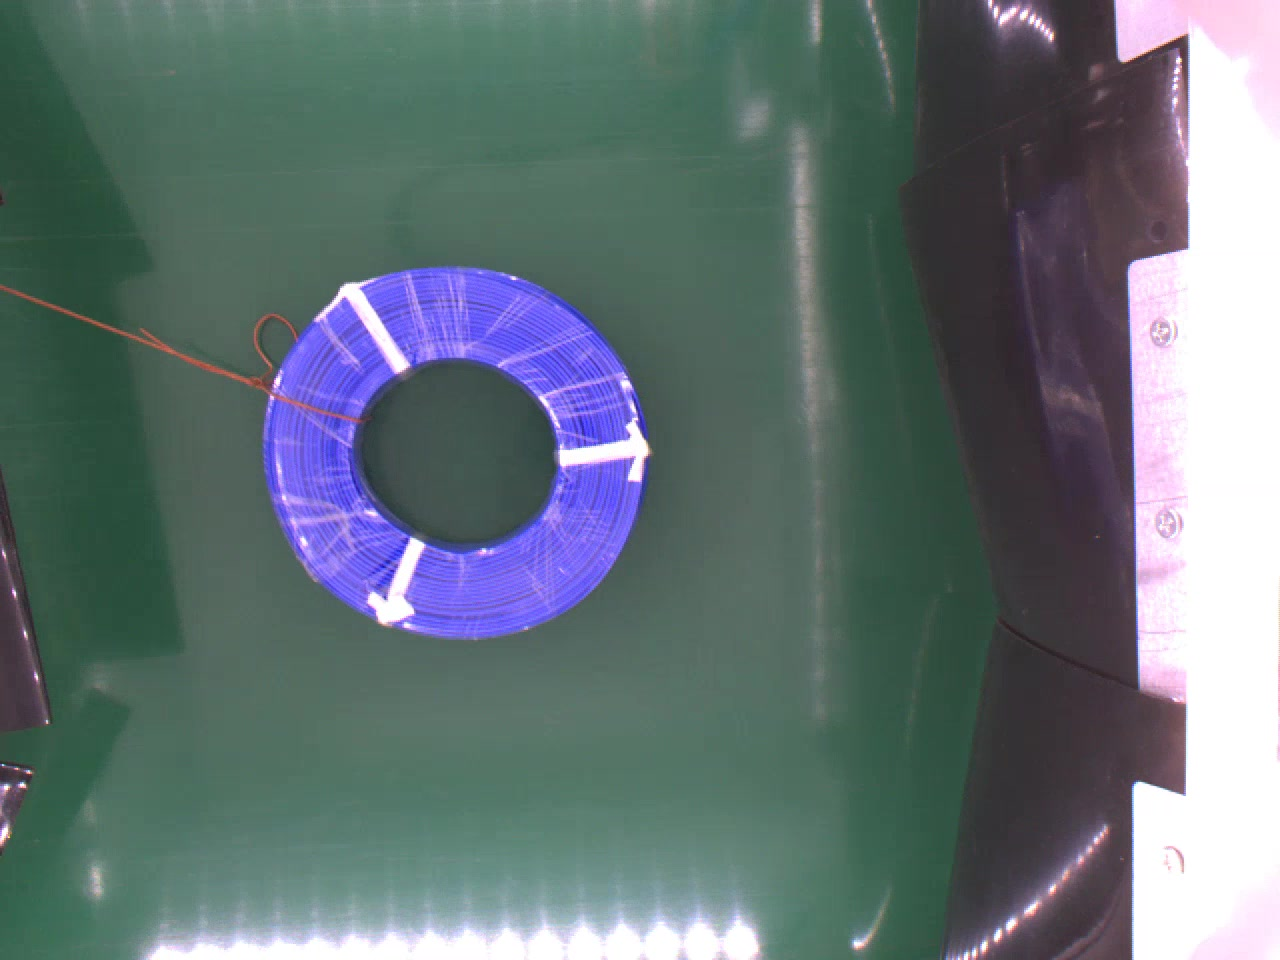blue: (264, 263, 649, 642)
